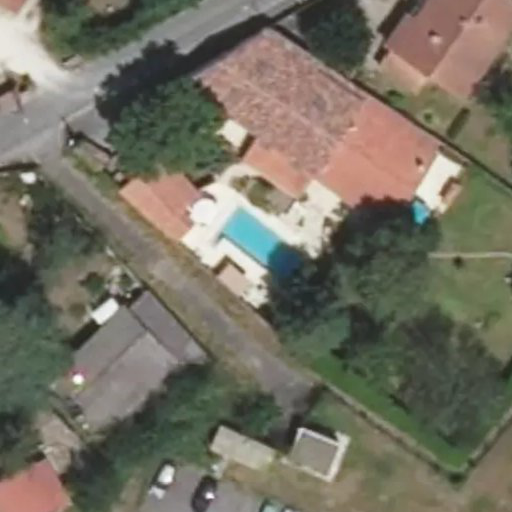pool: (207, 242, 304, 252)
